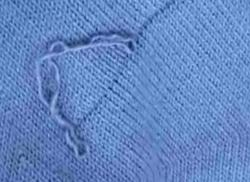snag: (101, 32, 145, 61)
